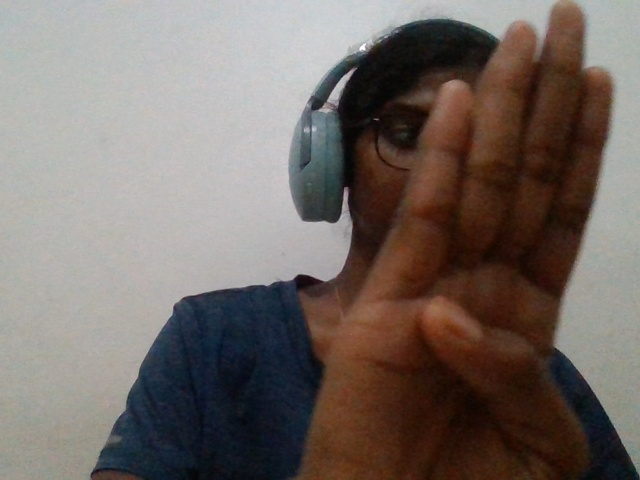B: (288, 3, 635, 480)
